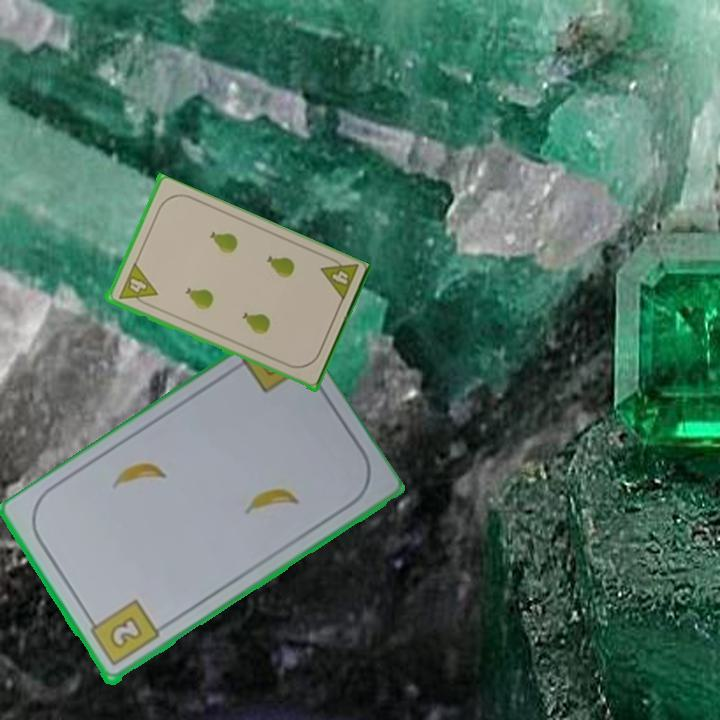2b: (84, 596, 162, 670)
4p: (316, 252, 361, 305), (115, 260, 159, 310)
